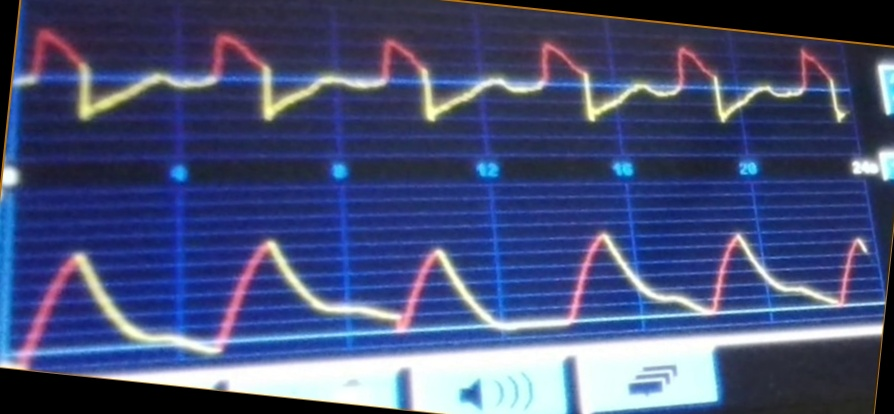Ineffective_effort Flow: (18, 18, 852, 127)
Ineffective_effort Volume: (14, 226, 872, 361)
